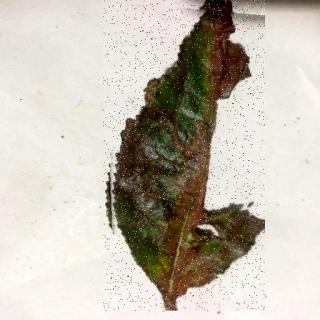Red Leaf Spot: (104, 1, 266, 312)
